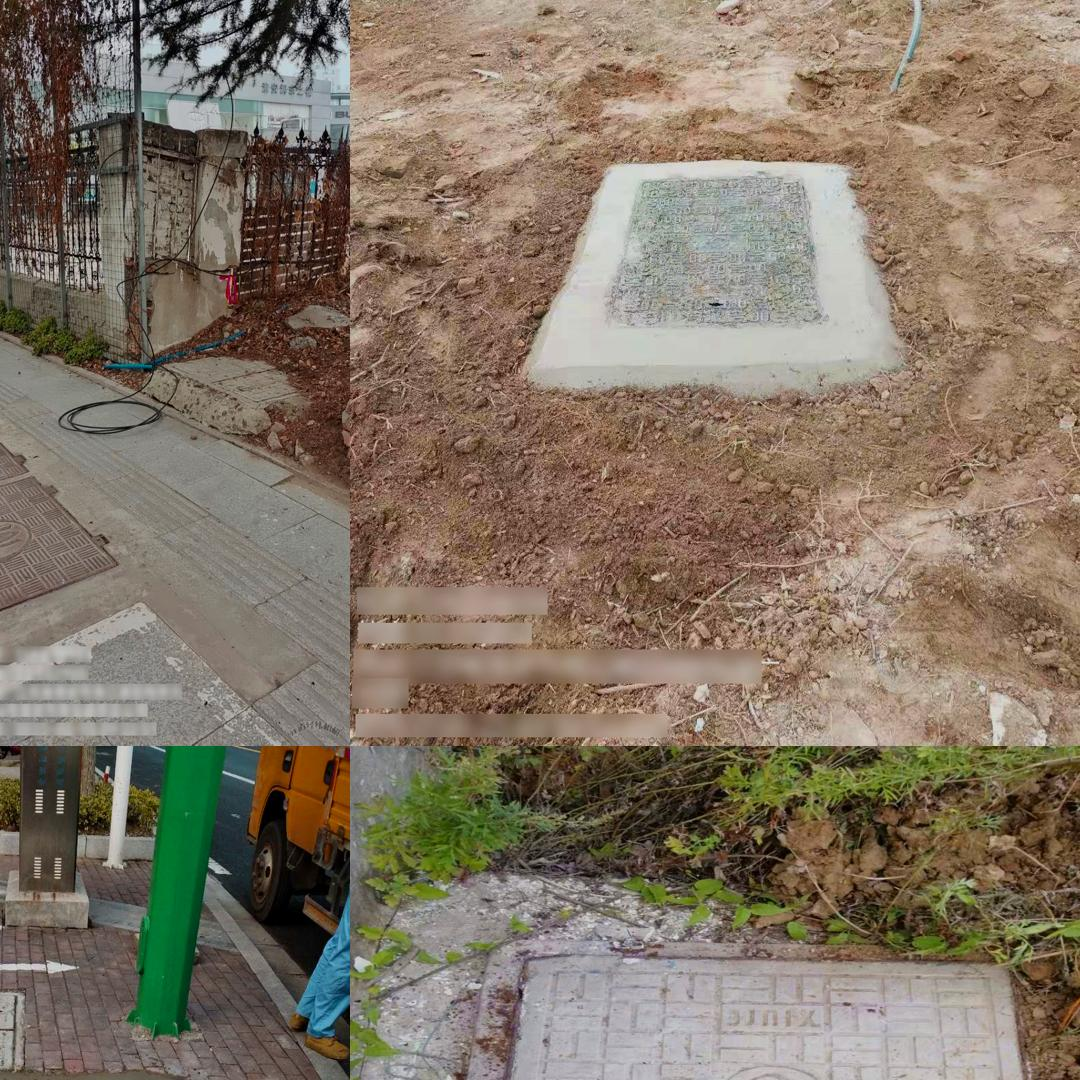good: (427, 942, 1071, 1080), (0, 599, 290, 746), (600, 173, 830, 333), (0, 985, 26, 1079), (0, 1078, 222, 1080)
